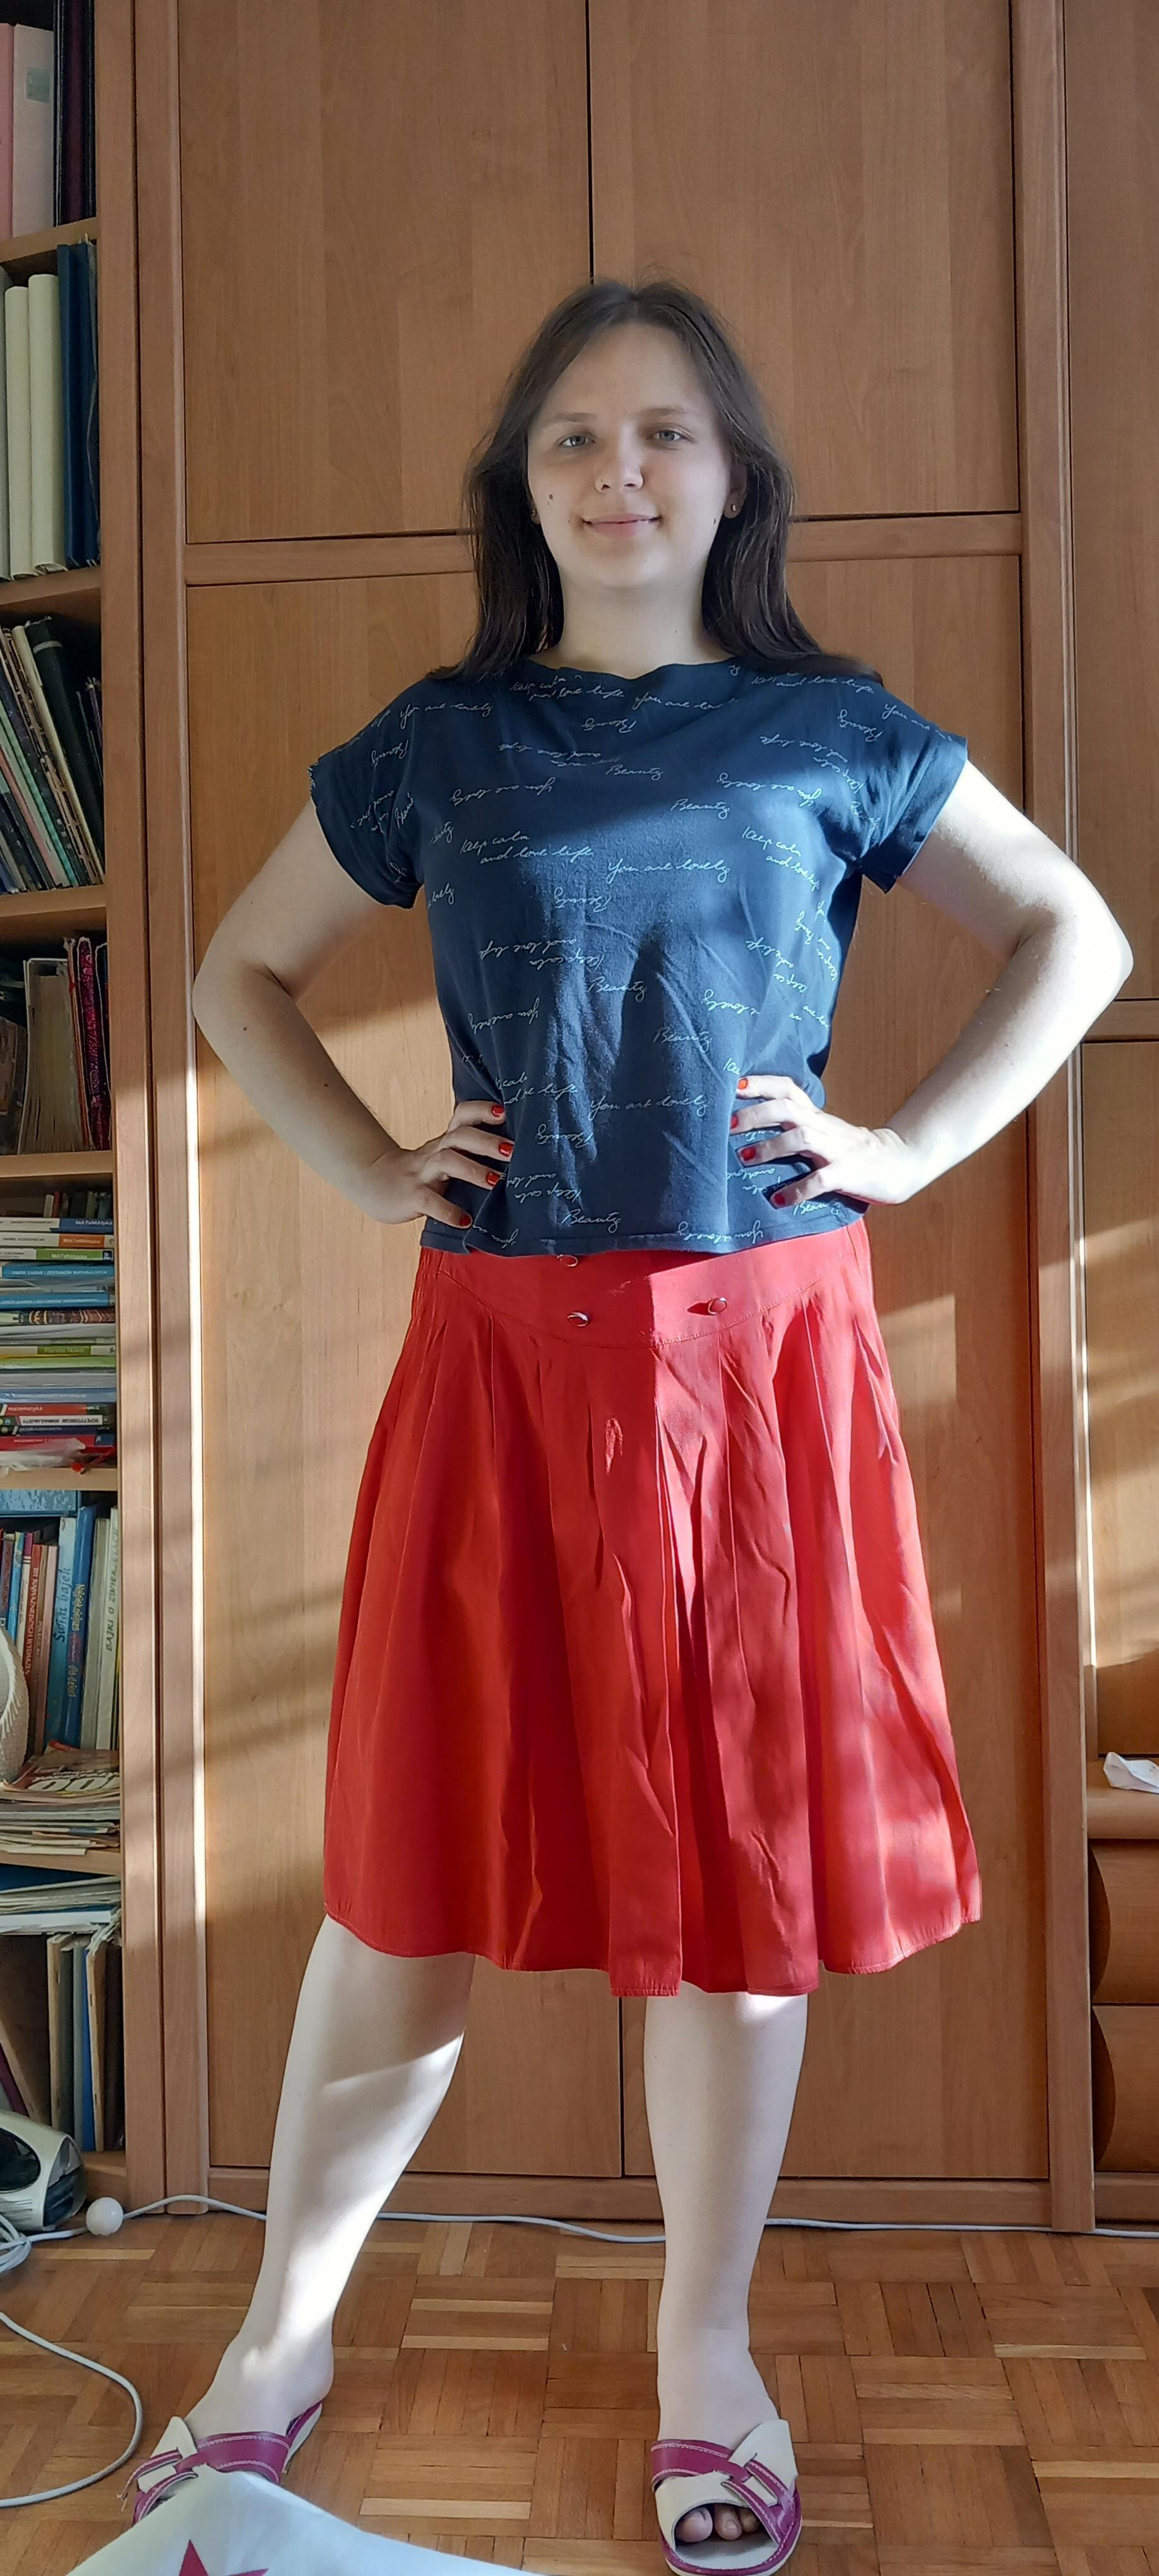Tshirt: (305, 655, 970, 1257)
skirt: (320, 1217, 983, 1994)
